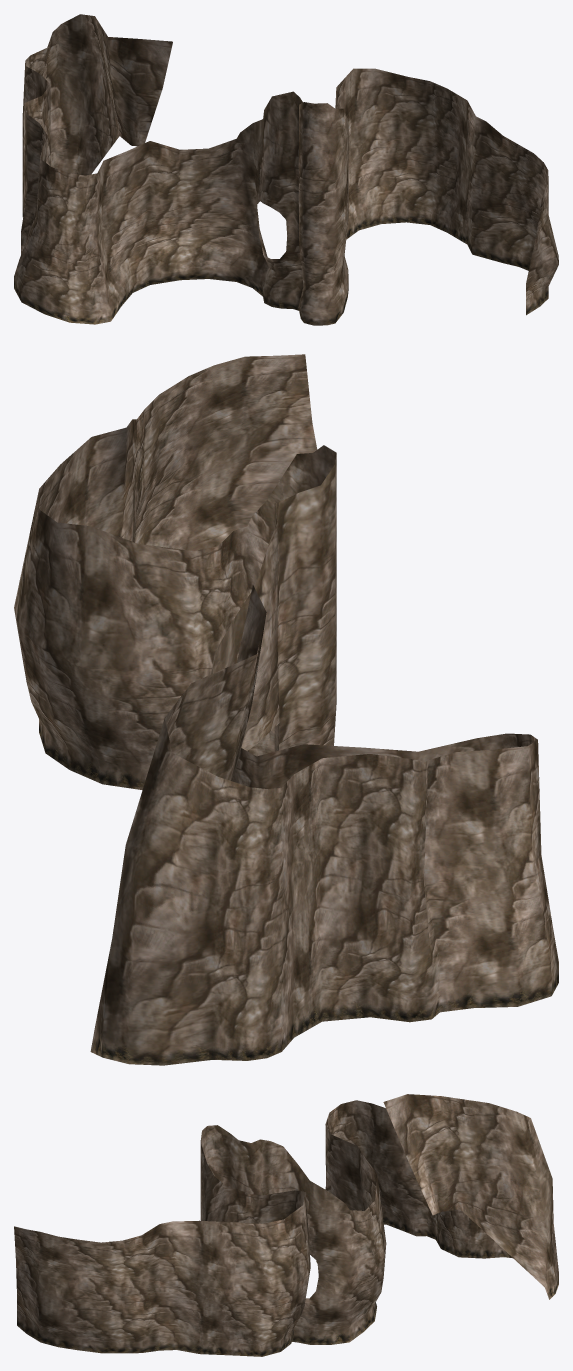
The model's file is OVERHILL_A_01_OBJECT32.fbx.
3 renders of one model, top to bottom at view 1: azimuth 30°, elevation 25°; view 2: azimuth 150°, elevation 25°; view 3: azimuth 270°, elevation 25°, orthographic. The views are drawn at different scales.
Parts seen in each view (by area): view 1: OVERHILL_A_01_OBJECT32; view 2: OVERHILL_A_01_OBJECT32; view 3: OVERHILL_A_01_OBJECT32.
Part boxes in pixels (x1,y1,x2,y2): OVERHILL_A_01_OBJECT32: [14, 14, 558, 325]; OVERHILL_A_01_OBJECT32: [14, 354, 558, 1065]; OVERHILL_A_01_OBJECT32: [14, 1094, 558, 1356].
Bounding box in the file's own units: 230266 × 137575 × 308368.
2 materials, 2 textured.
